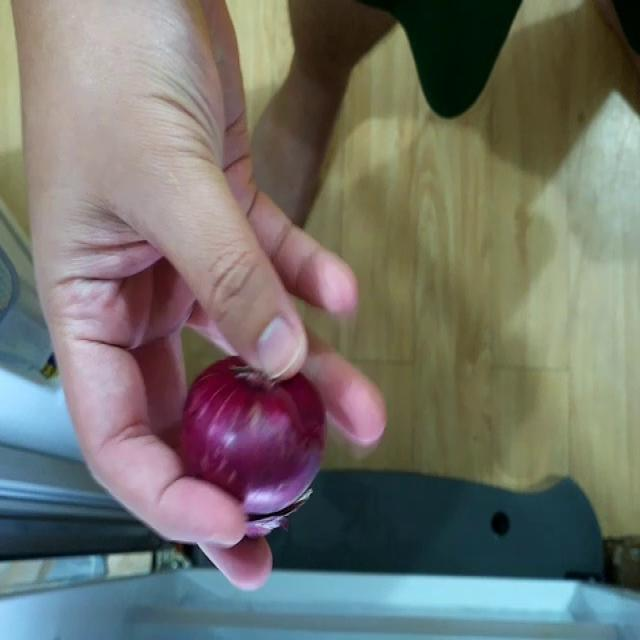onion: (180, 358, 329, 518)
